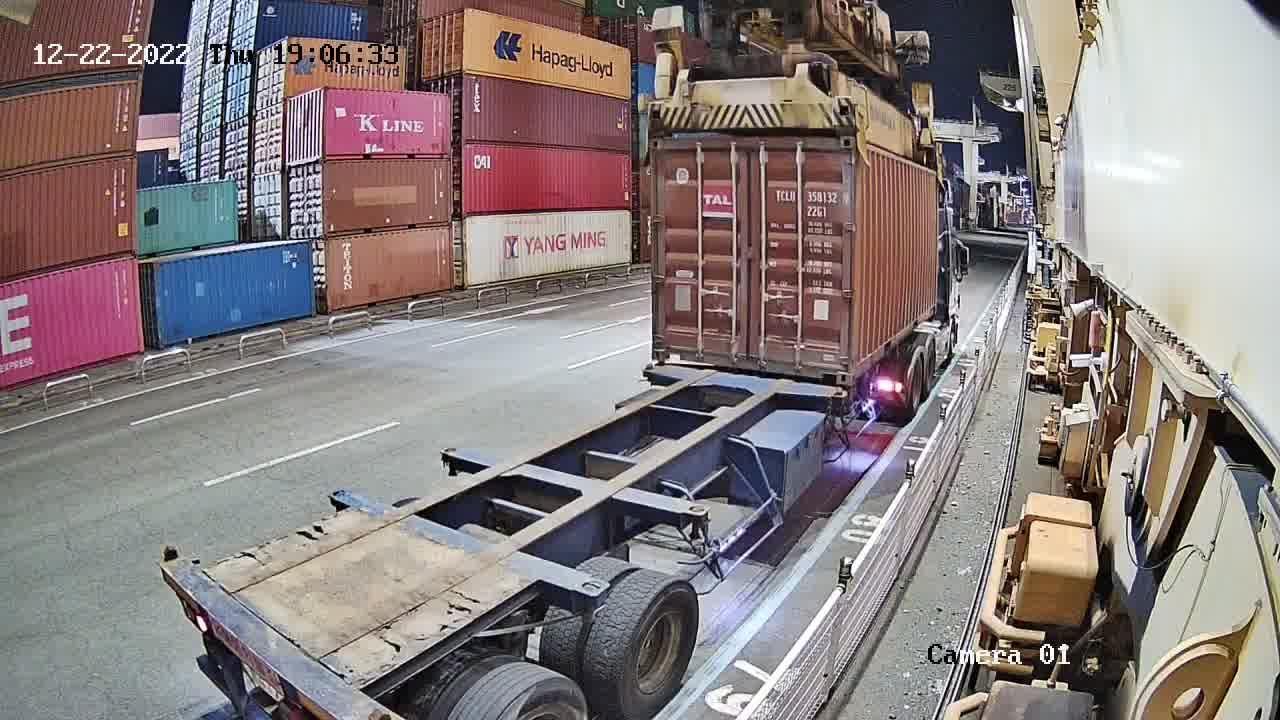Chassis: (645, 362, 845, 397)
Container: (649, 336, 855, 387)
Hole_L: (650, 335, 683, 365)
Hole_R: (826, 358, 853, 387)
Tire: (614, 578, 705, 719)
